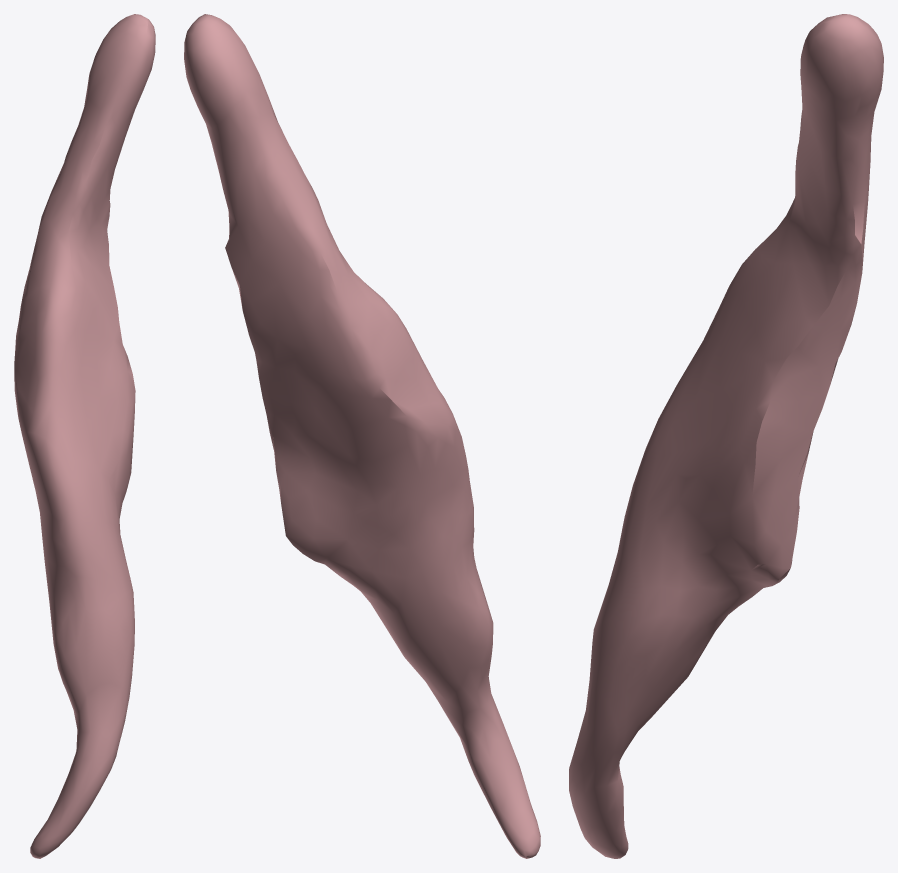
Rendered from fma46216_mm2031m.glb.
The picture shows the model from 3 angles, left to right: view 1: azimuth 30°, elevation 25°; view 2: azimuth 150°, elevation 25°; view 3: azimuth 270°, elevation 25°; orthographic projection. The views are drawn at different scales.
Parts seen in each view (by area): view 1: FMA46216_MM2031M; view 2: FMA46216_MM2031M; view 3: FMA46216_MM2031M.
Part boxes in pixels (left/top/right/bottom): FMA46216_MM2031M: left=14, top=14, right=155, bottom=858; FMA46216_MM2031M: left=184, top=14, right=540, bottom=858; FMA46216_MM2031M: left=569, top=14, right=883, bottom=858.
Size of the model in its own units: 0.0184 by 0.0617 by 0.0183.
